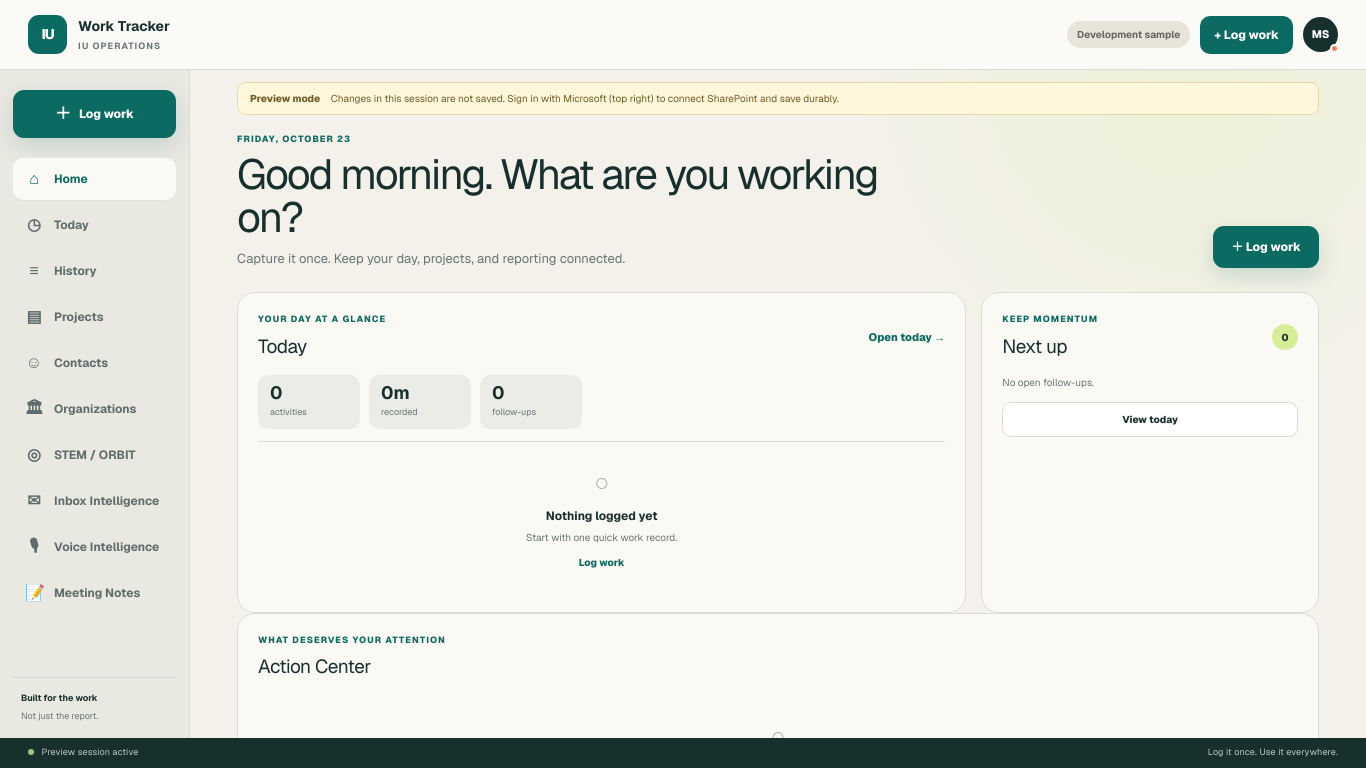
Test: a historic record that links to retired placeholders › still READS correctly: the original names resolve in the history list (never 'Unassigned')
The image size is (1366, 768).
Click the button "≡ History" at (94, 271), box [13,250,176,292]
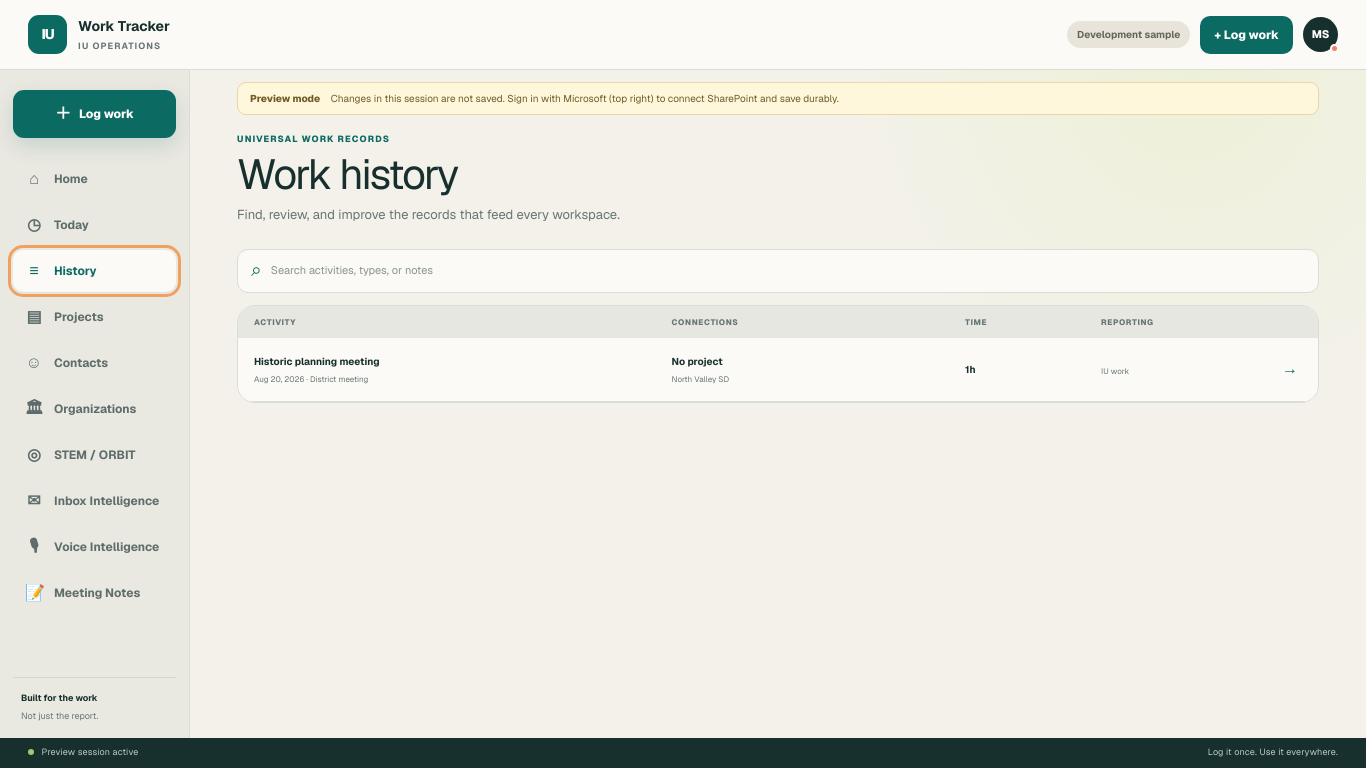
Expected: the text "North Valley SD" is shown, [672,374,729,384]
